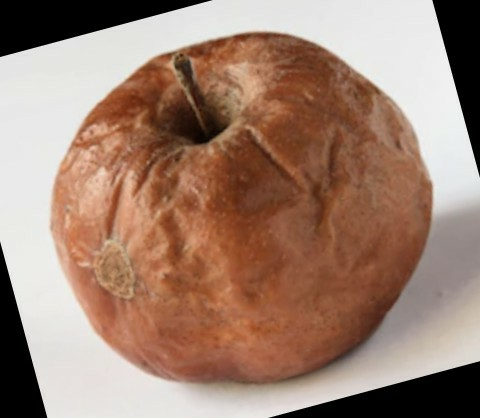rotten_apple: (52, 30, 434, 383)
